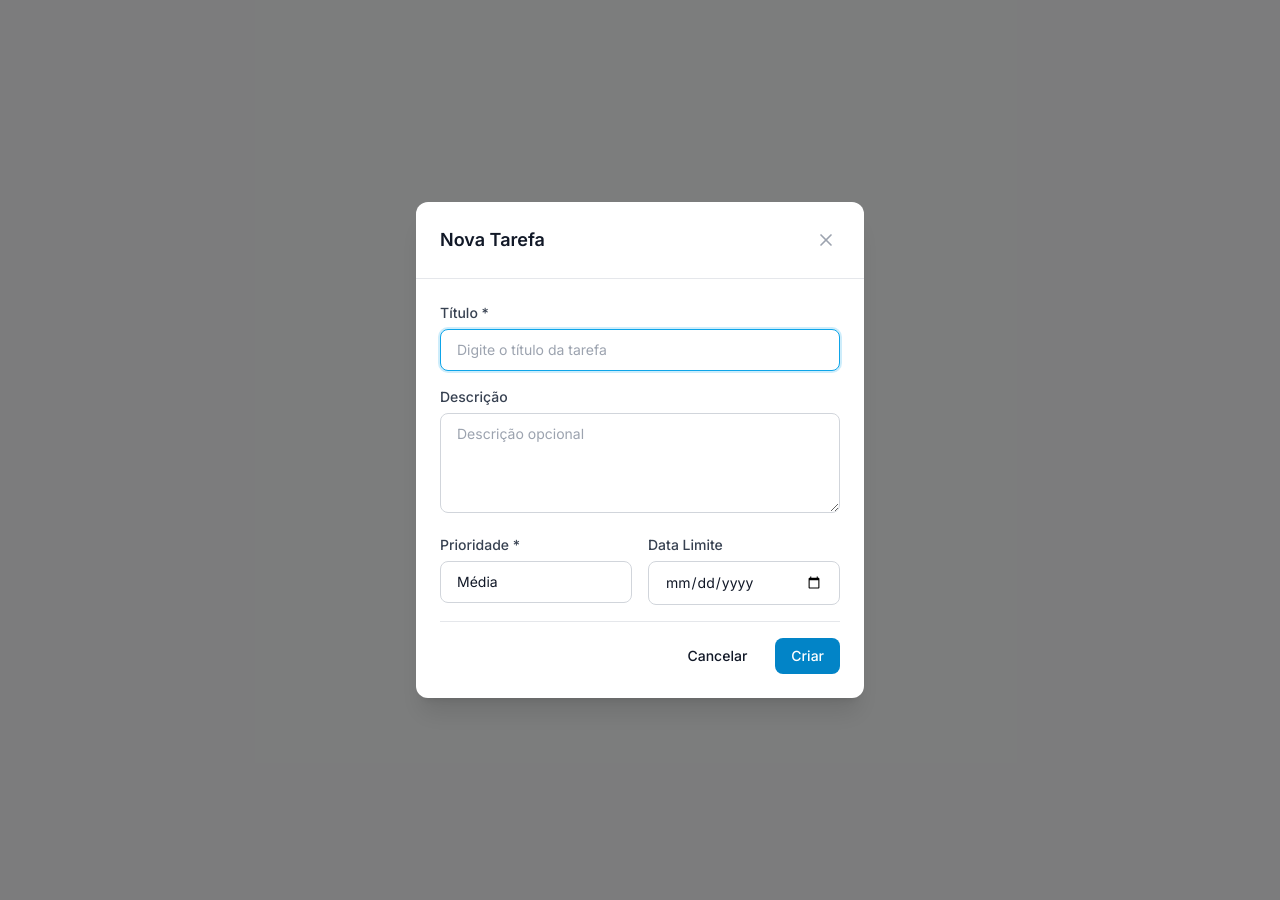
TaskForm › validates required title
Click the button "Criar" at (808, 656), box [775,638,840,674]
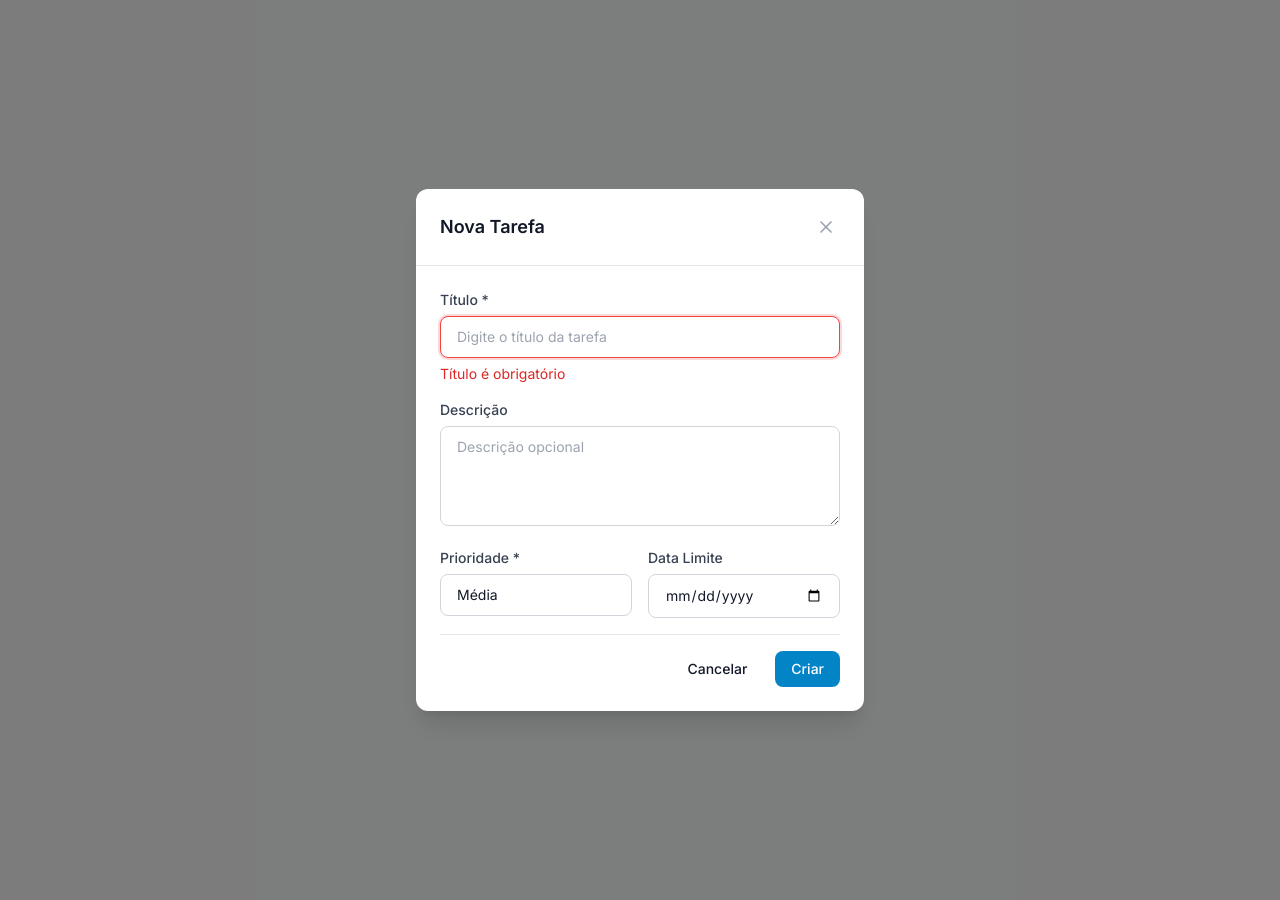
expect the message reads "Título é obrigatório": met, box [440,365,565,382]
